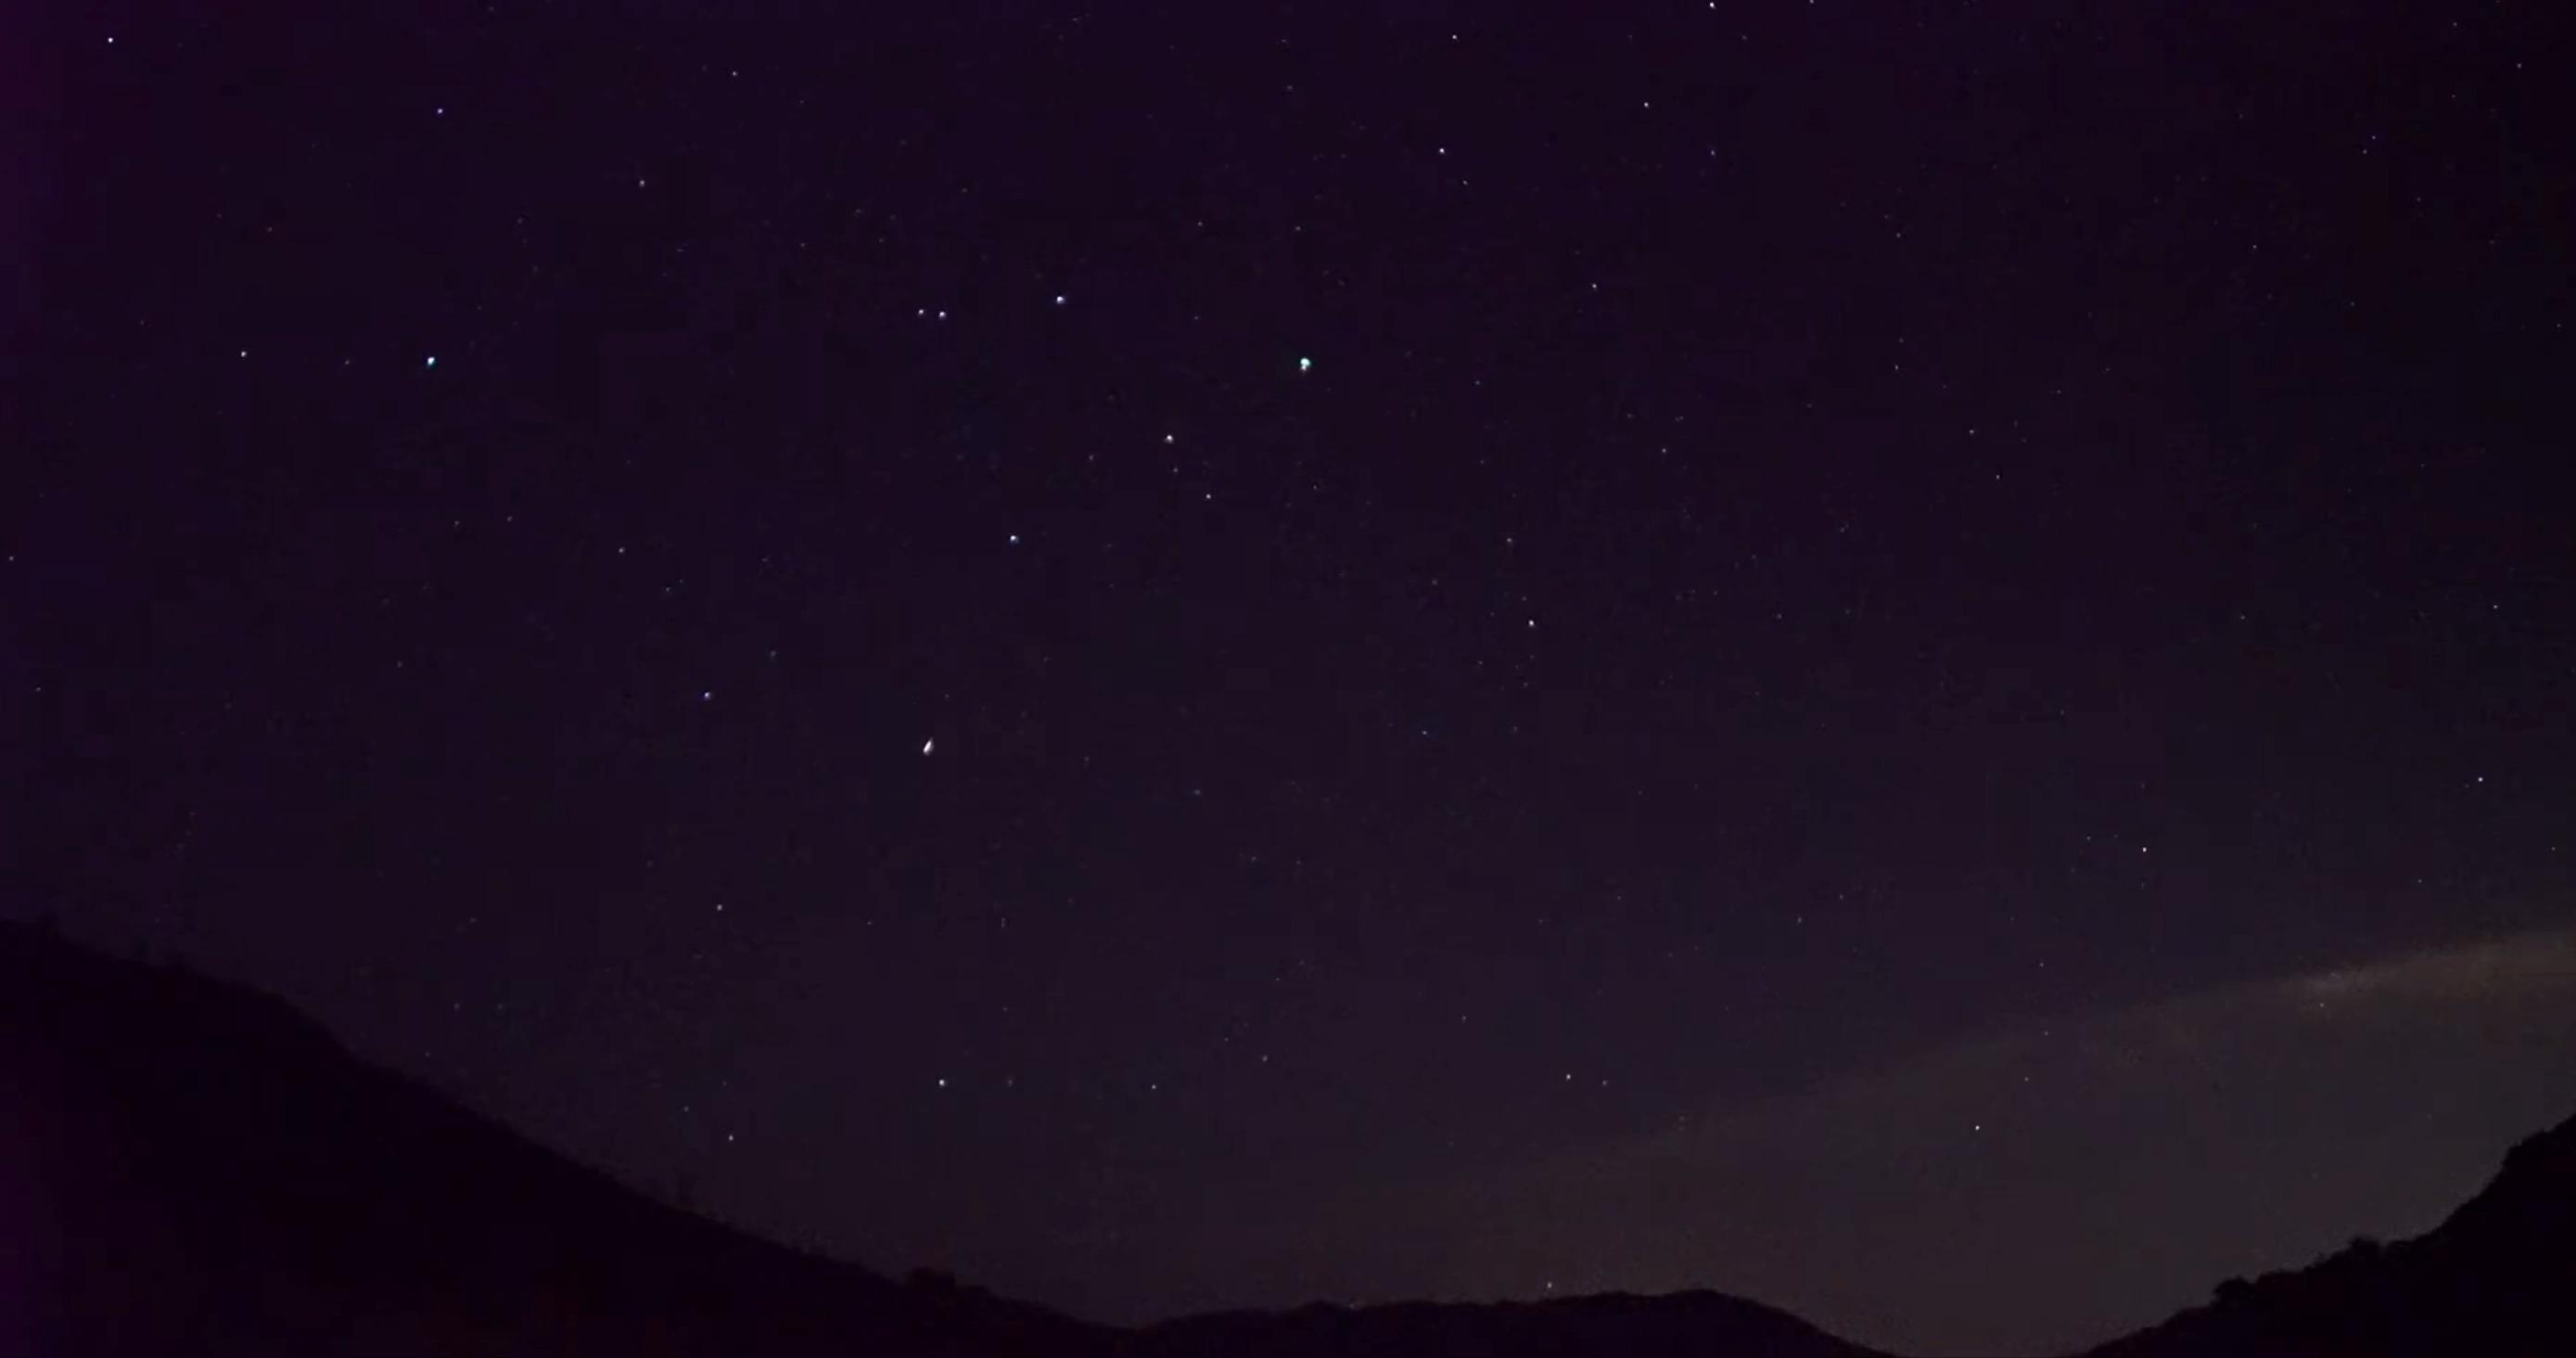Plane: (1286, 348, 1327, 377)
meteorite: (891, 724, 964, 768)
